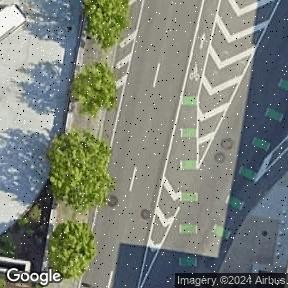vegetation: (44, 126, 119, 218), (65, 57, 125, 121), (45, 218, 101, 282), (83, 0, 128, 50)
